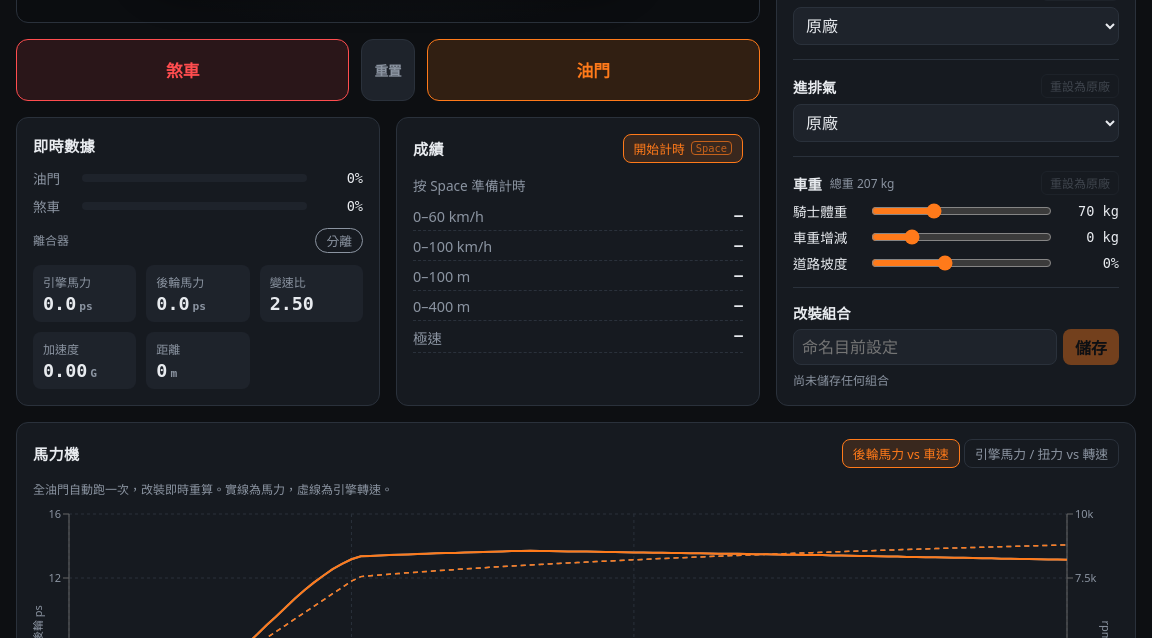
Scenario: App (integration) › saves a named preset
(page scrolled)
Type "測試組合" into the field named "改裝組合名稱" at x=925, y=346, box [793, 328, 1057, 364]
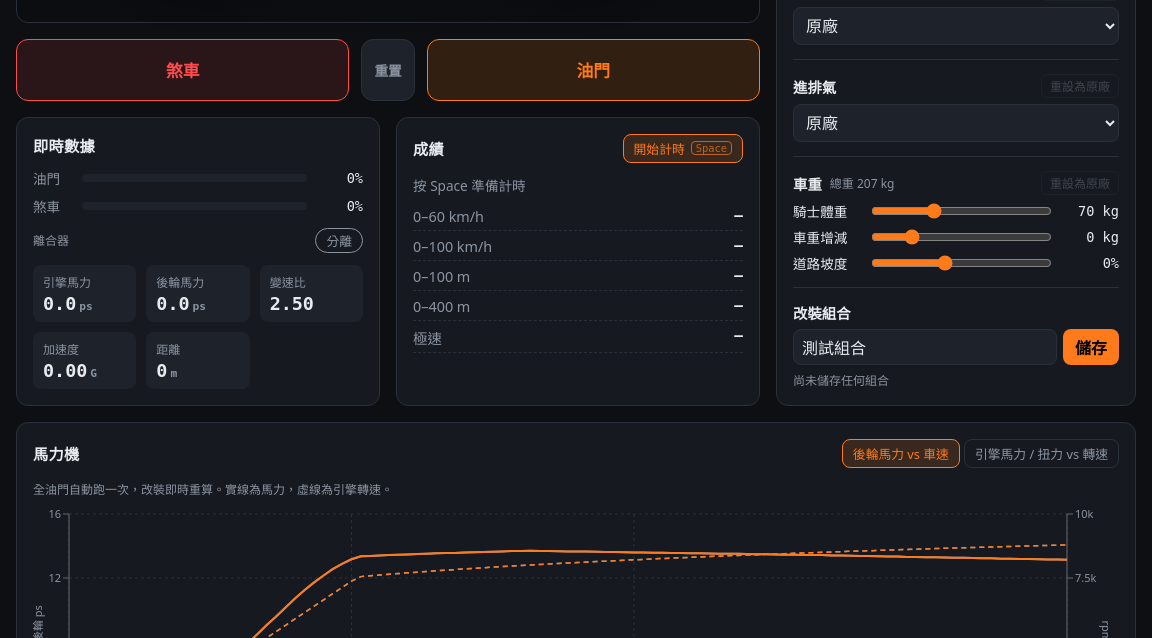
Click the button "儲存" at x=1091, y=346, box [1063, 328, 1119, 364]
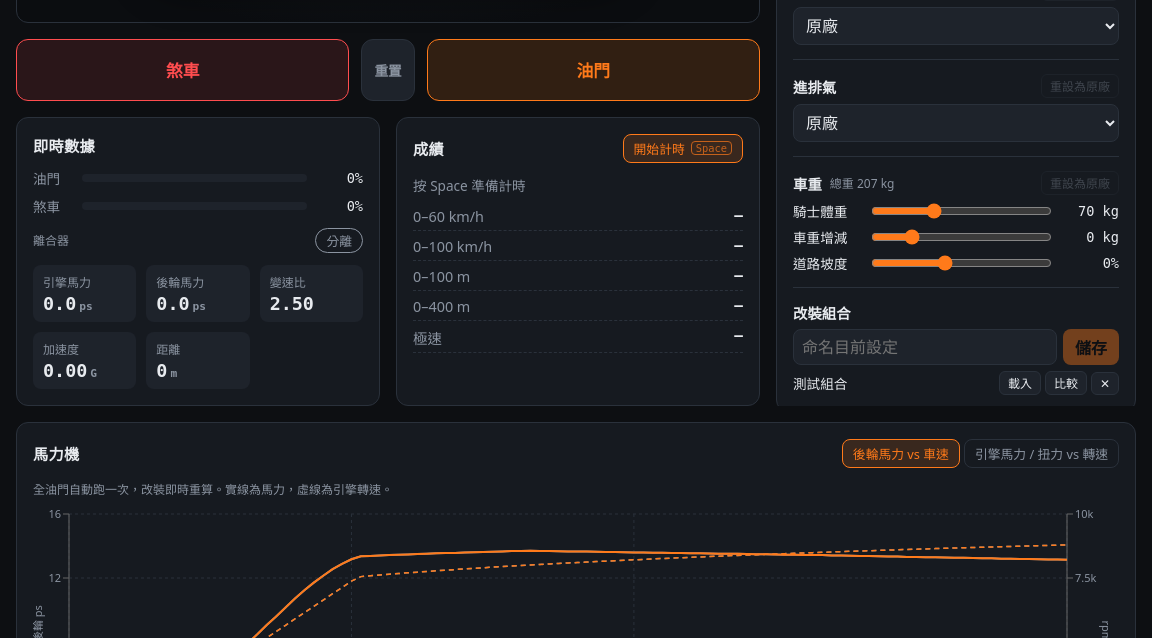
Now the text "測試組合" is shown, box [793, 374, 847, 392]
